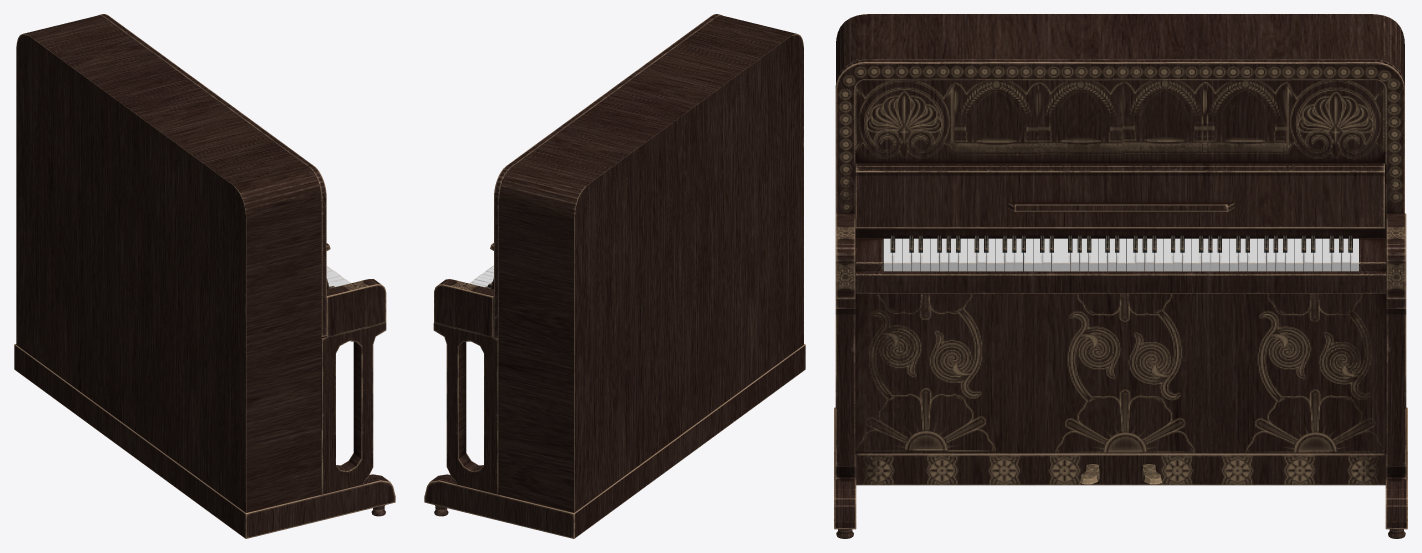
The model's file is SM_PianoCompact.fbx.
3 views of the same model, side by side, from view 1: azimuth 30°, elevation 25°; view 2: azimuth 150°, elevation 25°; view 3: azimuth 270°, elevation 25° (orthographic). The views are drawn at different scales.
Visible parts, largest first — view 1: SM_PianoCompact_LOD0; view 2: SM_PianoCompact_LOD0; view 3: SM_PianoCompact_LOD0.
Boxes of the visible parts, <box> form: SM_PianoCompact_LOD0: <box>14,14,395,538</box>; SM_PianoCompact_LOD0: <box>424,14,805,538</box>; SM_PianoCompact_LOD0: <box>834,14,1407,538</box>.
Bounding box in the file's own units: 72.14 × 193 × 163.
1 material, 1 textured.
